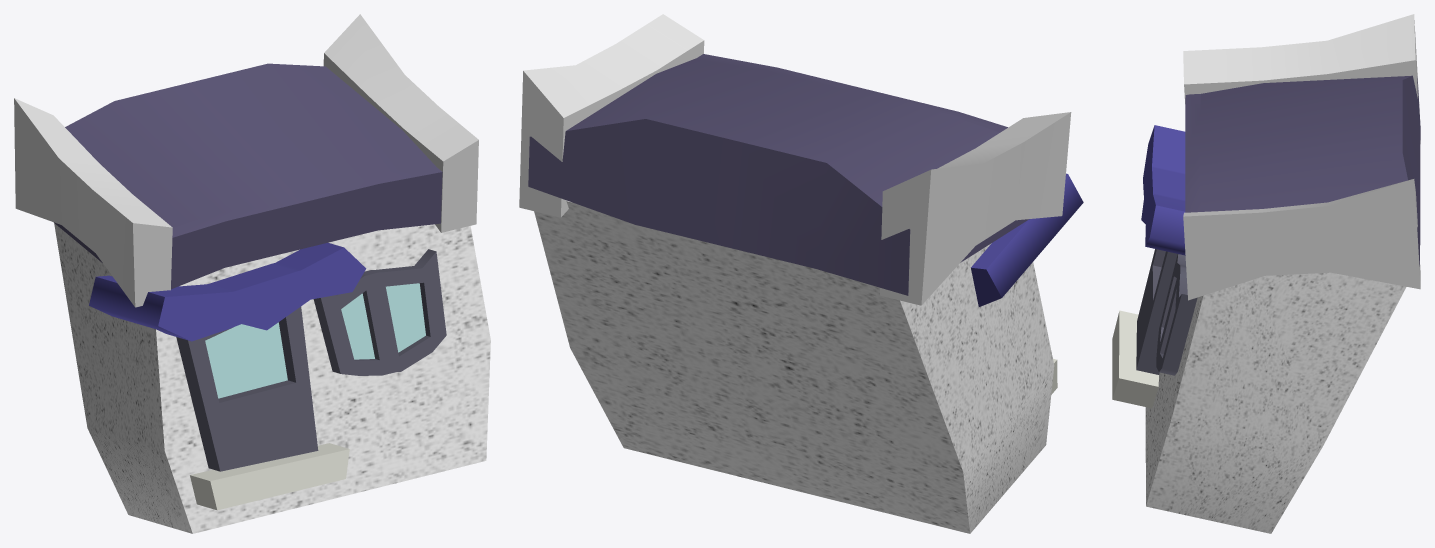
File: house.fbx
The picture shows the model from 3 angles, left to right: view 1: azimuth 30°, elevation 25°; view 2: azimuth 150°, elevation 25°; view 3: azimuth 270°, elevation 25°; orthographic projection. The views are drawn at different scales.
Visible parts, largest first — view 1: pCube2, pCube6, pCube1, pCube9, pCube3, pCube4, pCube8, pCube5; view 2: pCube2, pCube6, pCube9, pCube8, pCube3; view 3: pCube2, pCube6, pCube8, pCube9, pCube3, pCube5, pCube1, pCube4.
Part boxes in pixels (x1=…): pCube2: x1=54, y1=223, x2=490, y2=533; pCube6: x1=54, y1=63, x2=442, y2=289; pCube1: x1=176, y1=306, x2=318, y2=471; pCube9: x1=14, y1=98, x2=172, y2=307; pCube3: x1=89, y1=242, x2=366, y2=341; pCube4: x1=313, y1=249, x2=446, y2=375; pCube8: x1=323, y1=14, x2=478, y2=232; pCube5: x1=190, y1=443, x2=349, y2=510; pCube2: x1=534, y1=200, x2=1054, y2=533; pCube6: x1=528, y1=54, x2=1029, y2=295; pCube9: x1=880, y1=112, x2=1071, y2=305; pCube8: x1=519, y1=14, x2=704, y2=217; pCube3: x1=971, y1=173, x2=1083, y2=306; pCube2: x1=1145, y1=272, x2=1406, y2=533; pCube6: x1=1185, y1=75, x2=1420, y2=266; pCube8: x1=1183, y1=179, x2=1420, y2=300; pCube9: x1=1183, y1=14, x2=1420, y2=143; pCube3: x1=1141, y1=125, x2=1185, y2=255; pCube5: x1=1112, y1=310, x2=1158, y2=408; pCube1: x1=1136, y1=249, x2=1177, y2=374; pCube4: x1=1156, y1=254, x2=1197, y2=375.
Size of the model in its own units: 3.42 by 3.45 by 2.66.
Materials: 7 (1 with a texture image).
